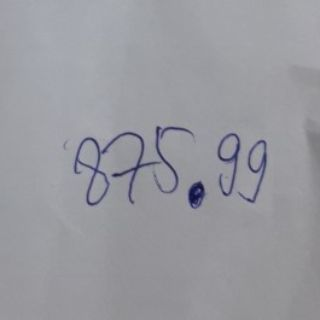.: (185, 179, 209, 211)
5: (147, 120, 187, 195)
7: (105, 124, 151, 213)
8: (66, 129, 111, 209)
9: (238, 134, 272, 206), (214, 129, 241, 198)
